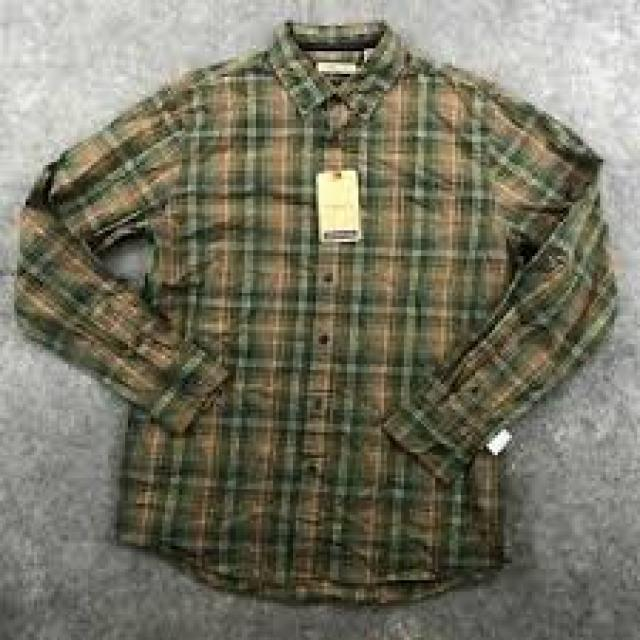plaid: (13, 25, 626, 605)
